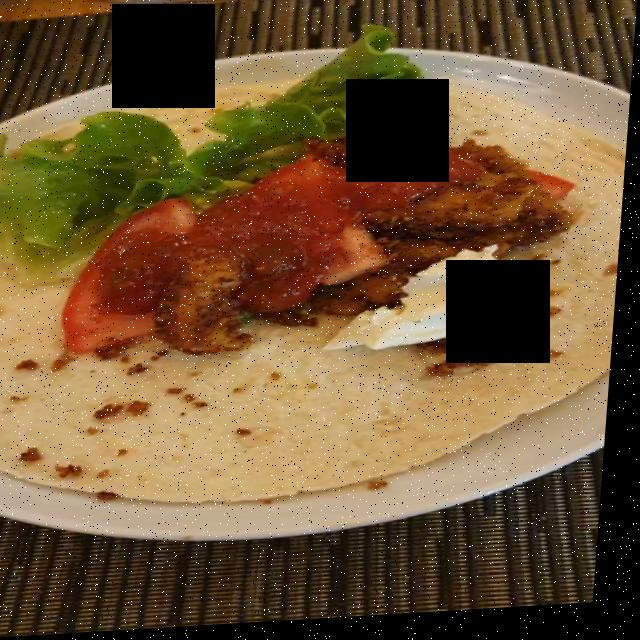avocado: (0, 32, 576, 367)
cheese: (348, 252, 543, 349)
chicken: (3, 50, 579, 371)
fajita-bread-only: (0, 44, 623, 512)
salad-leaf-salad-green: (0, 38, 554, 370)
tomato-raw: (2, 55, 576, 364)
